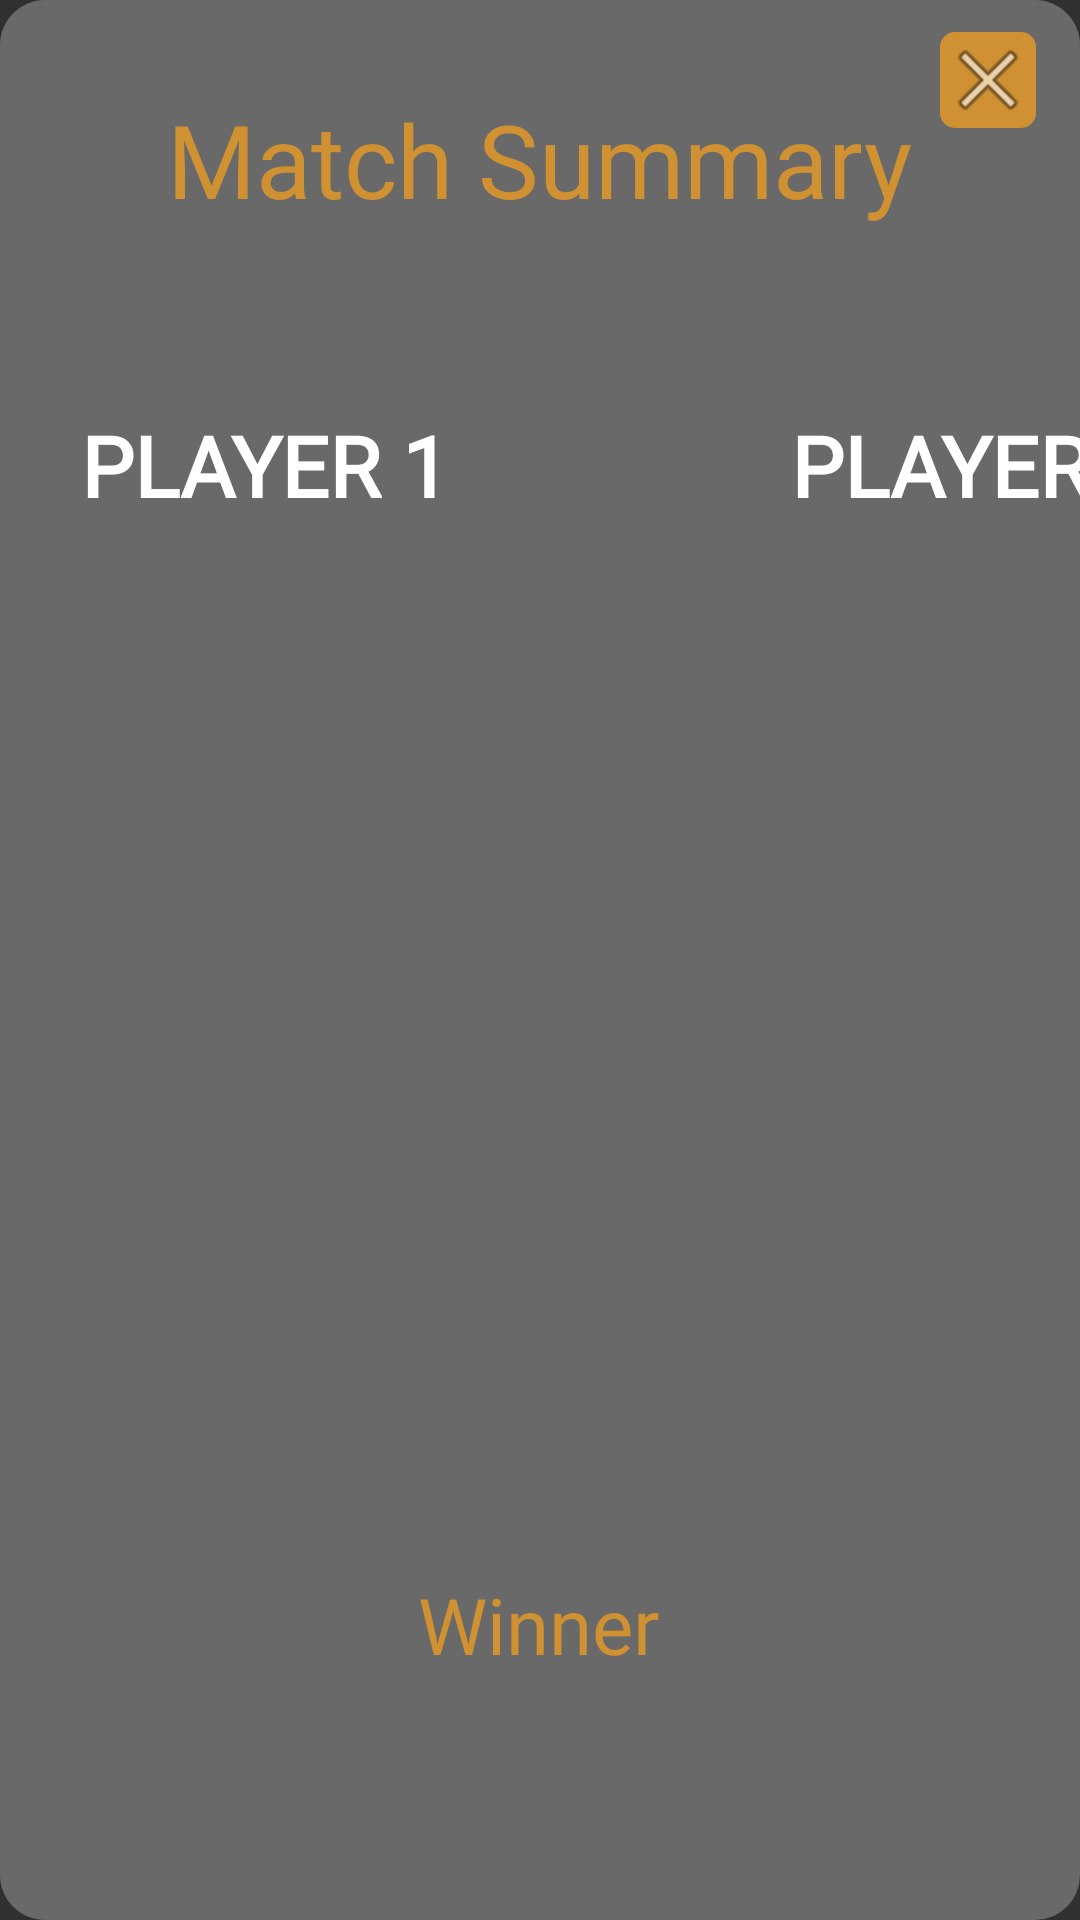

Locate icon controls on the screen. Image size 1080w x 1920h, boxes as (x1, y1, x2, y2).
close clear cancel: (940, 32, 1036, 128)
